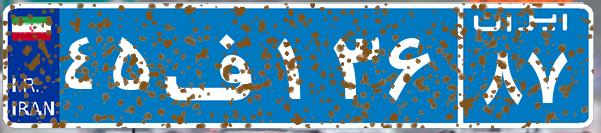1: (273, 28, 330, 110)
3: (330, 28, 385, 110)
4: (57, 26, 110, 107)
5: (110, 28, 158, 105)
6: (385, 28, 445, 110)
7: (525, 38, 570, 115)
8: (475, 38, 525, 113)
ف: (158, 15, 273, 115)
